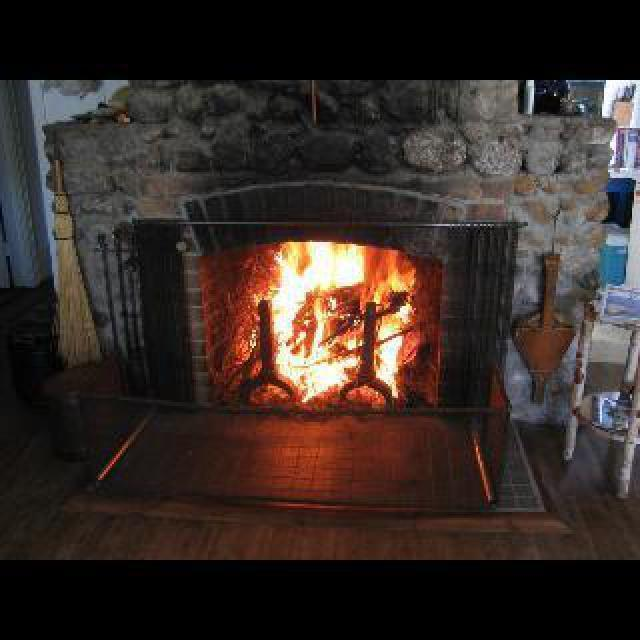Fire: (240, 242, 422, 402)
